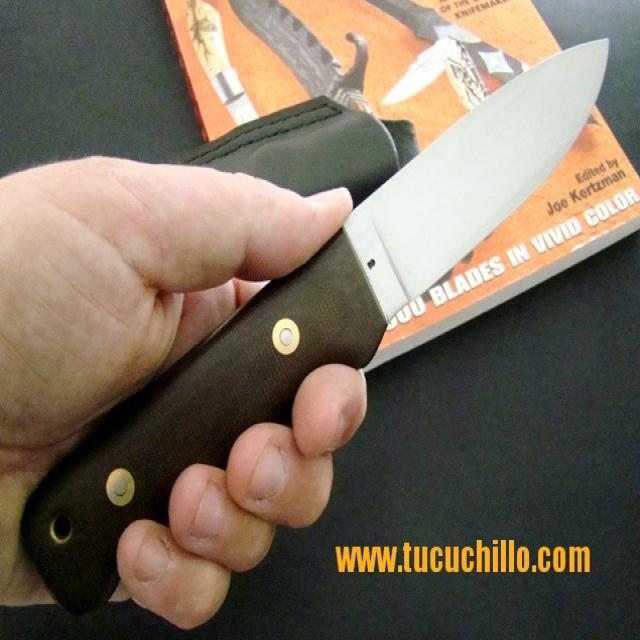knife: (18, 31, 618, 625)
